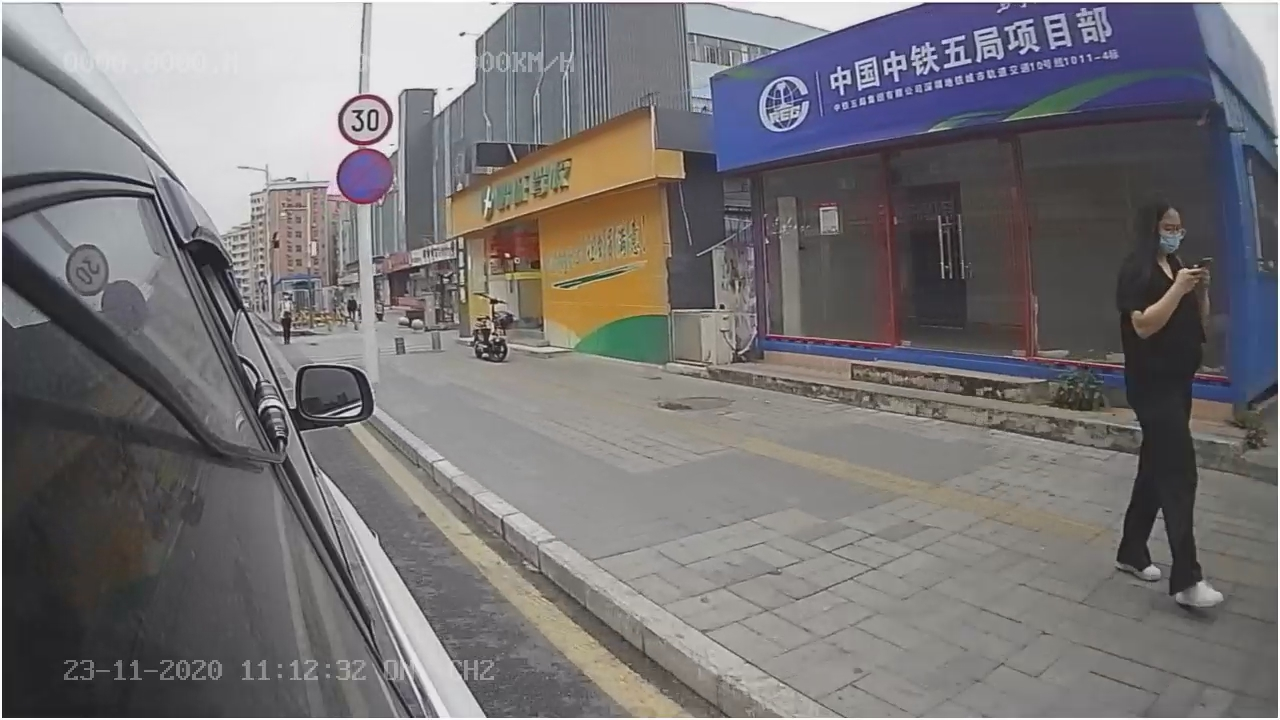person: (1098, 195, 1242, 616)
